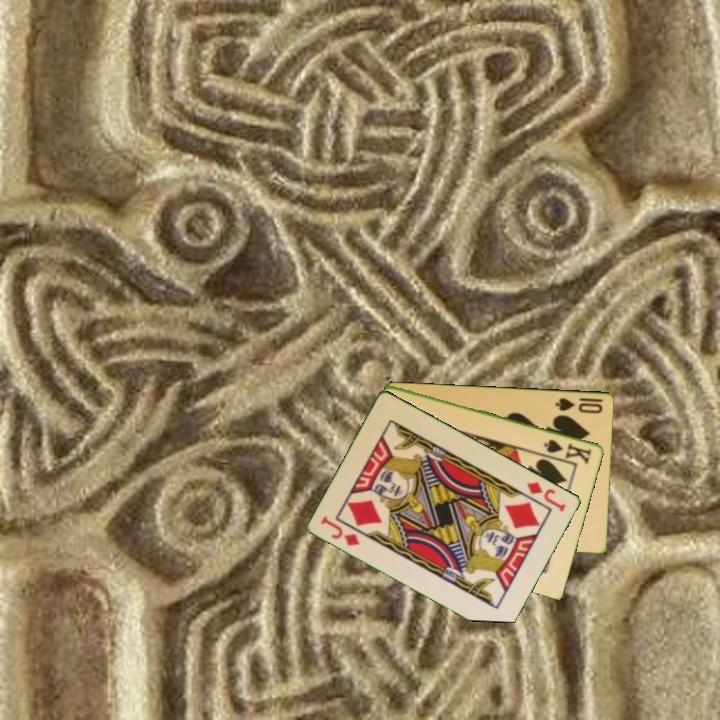10s: (553, 394, 605, 416)
Jd: (318, 512, 363, 549), (524, 478, 569, 514)
Ks: (541, 436, 595, 467)
